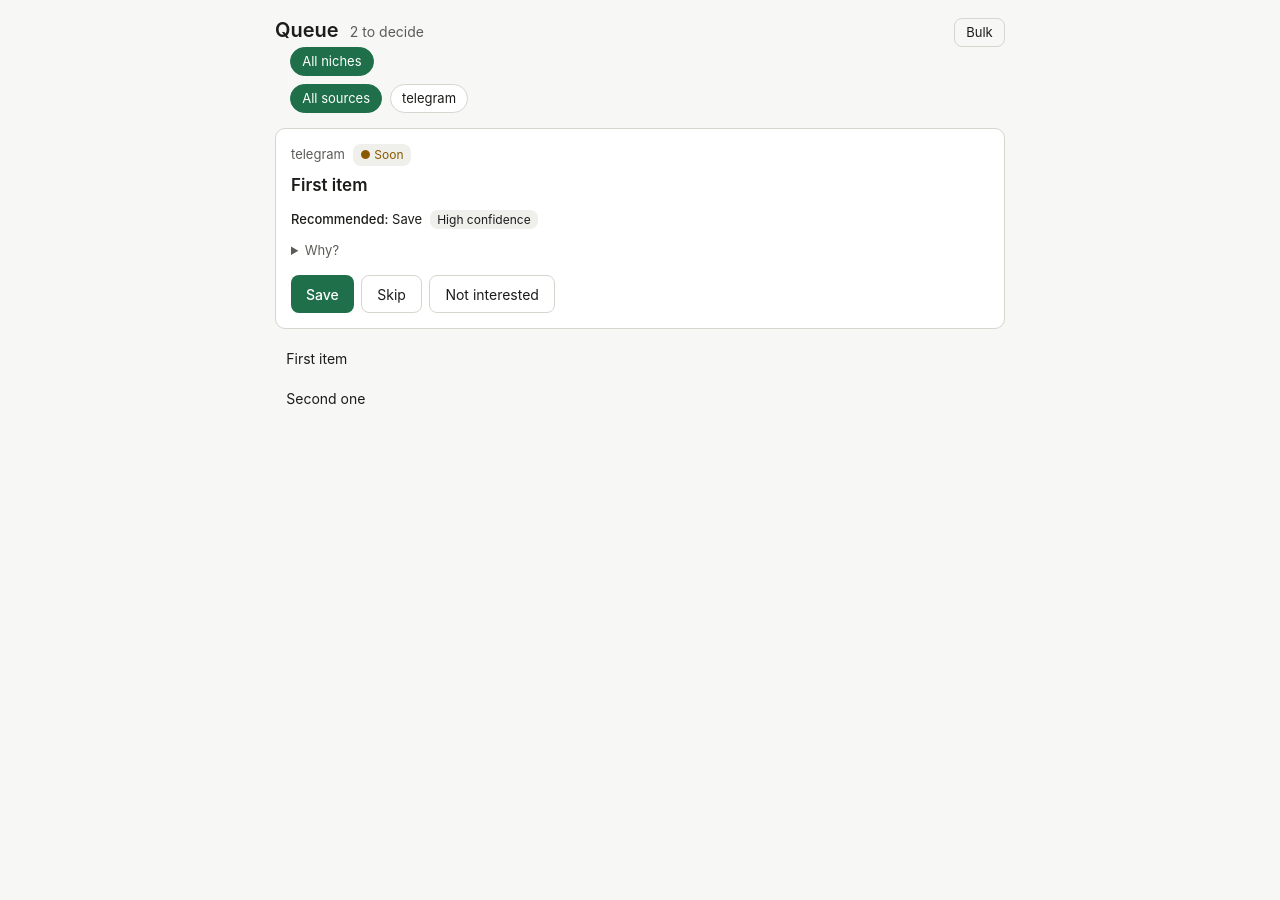
Test: command palette › ArrowDown then Enter runs Next item and closes
Check: the heading "First item" is shown, box [291, 175, 368, 195]
Press k
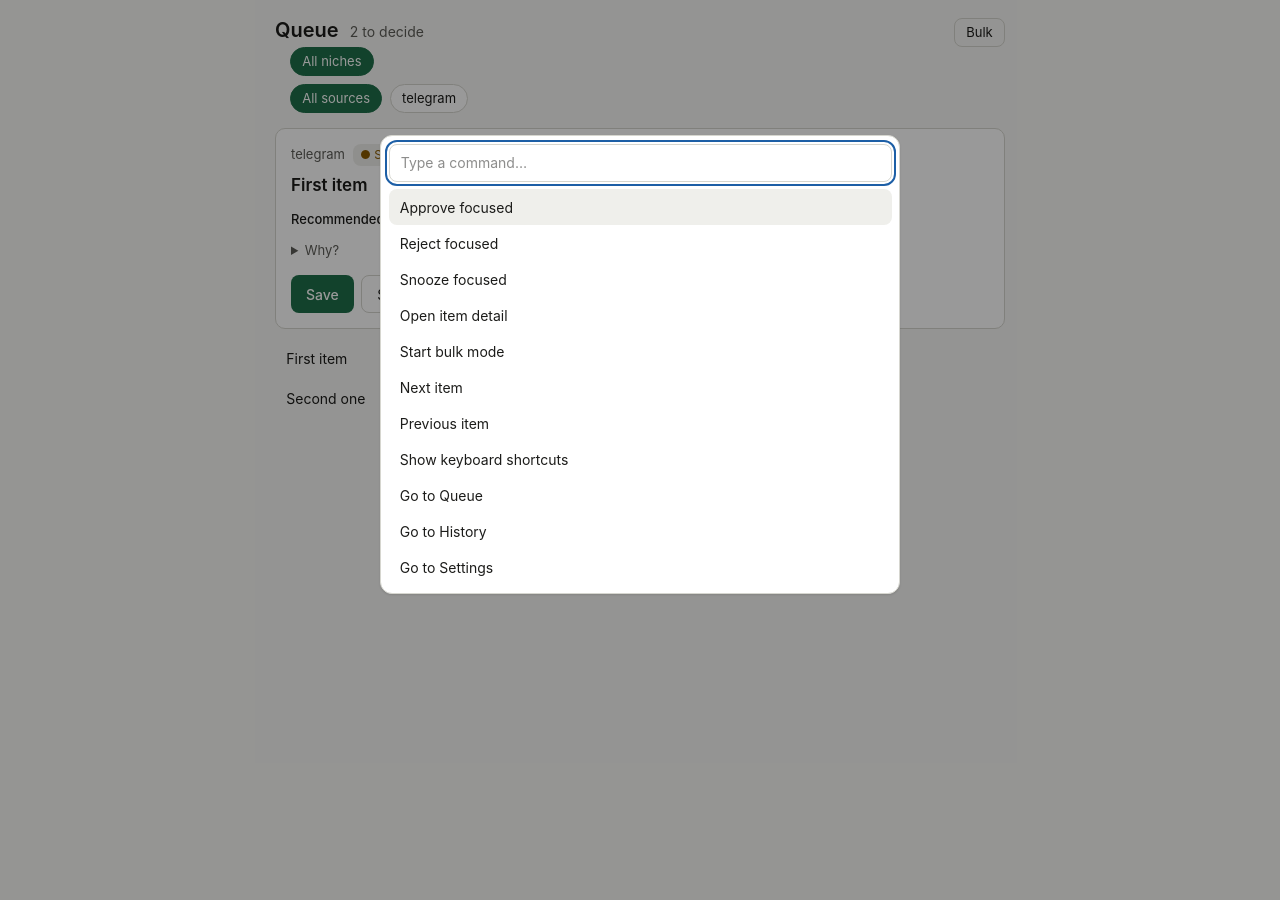
Type "item" into the dropdown.
click(640, 162); type("item")  # box [388, 144, 892, 182]
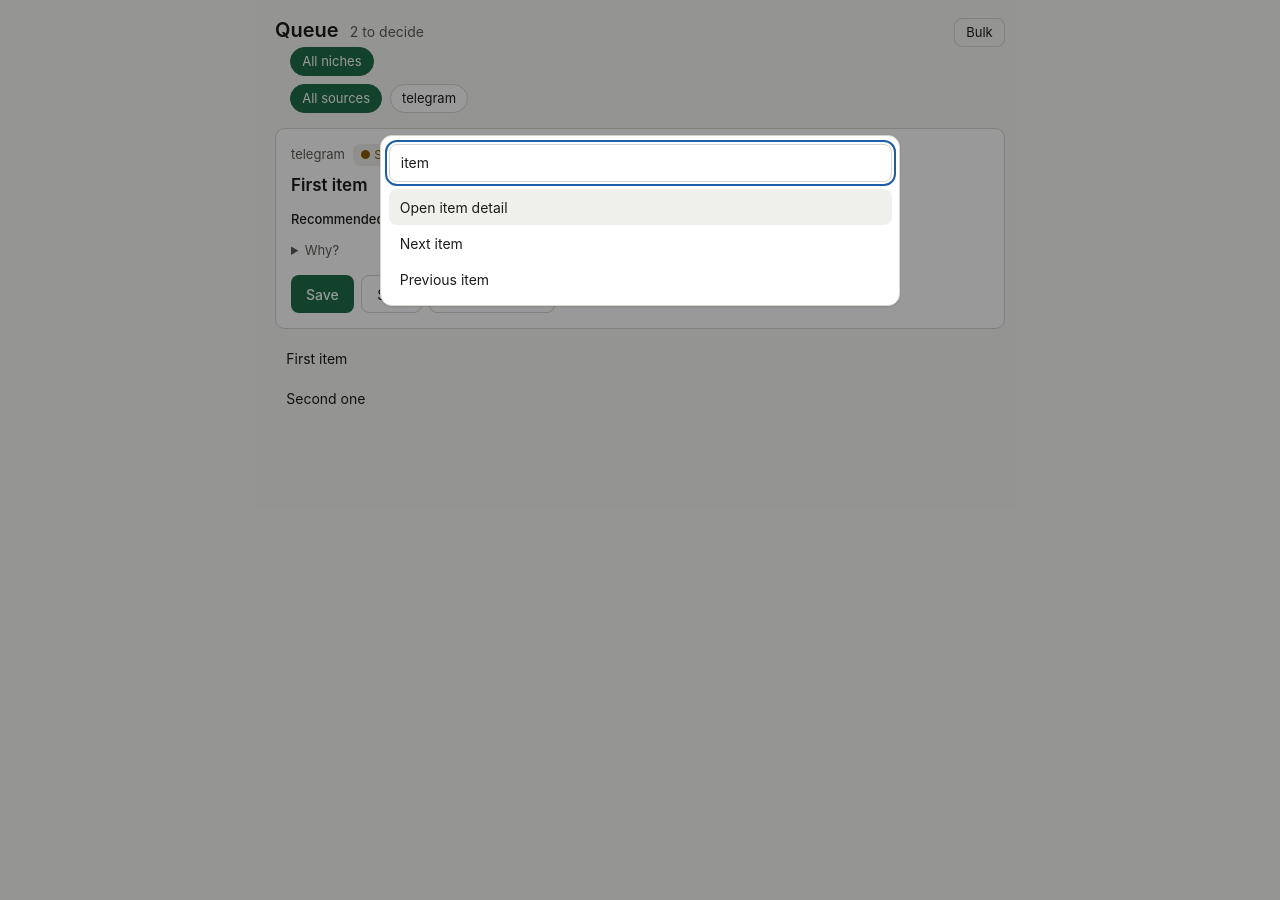
Press ArrowDown in the dropdown, box [388, 144, 892, 182]
Press Enter in the dropdown, box [388, 144, 892, 182]
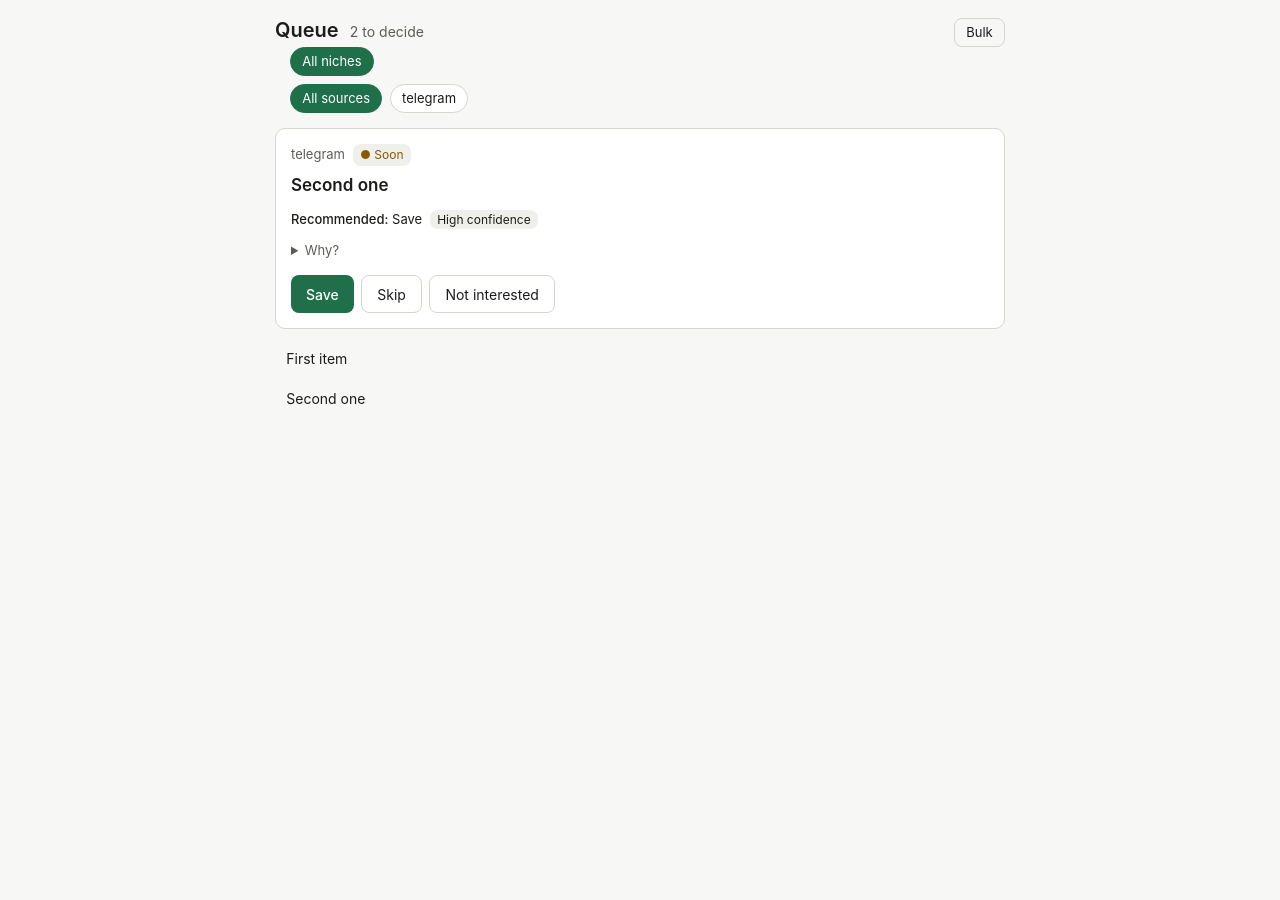
Check: the dialog is gone
Check: the heading "Second one" is shown, box [291, 175, 388, 195]
